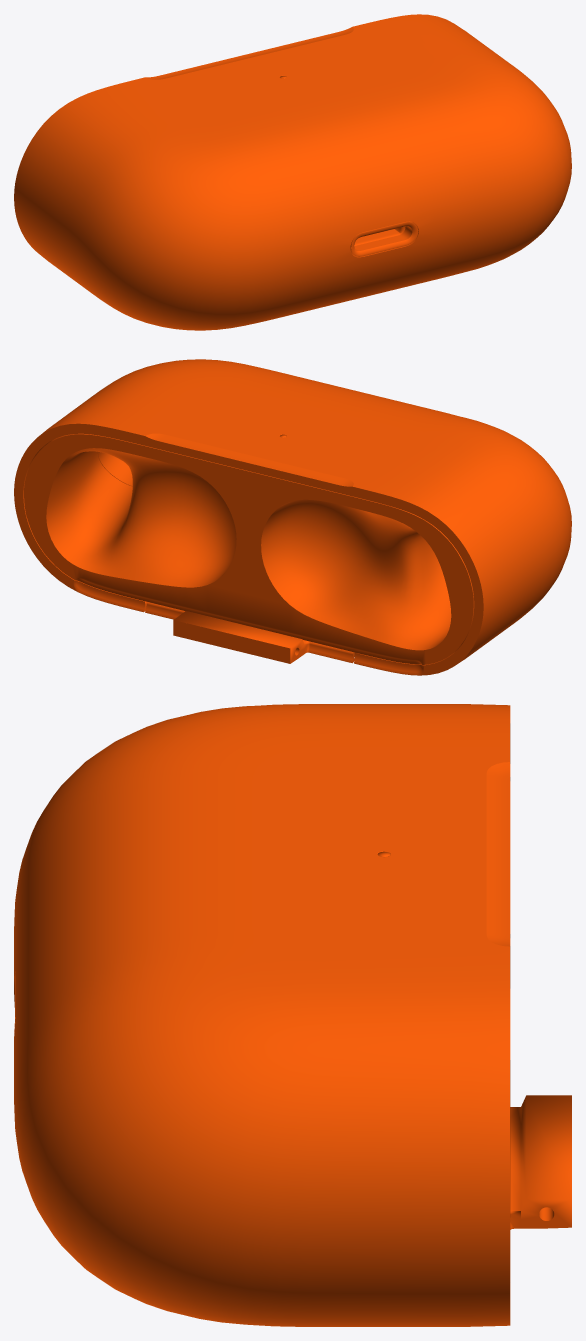
The model's file is bottom_case_resized_proper_1.obj.
3 renders of one model, top to bottom at view 1: azimuth 30°, elevation 25°; view 2: azimuth 150°, elevation 25°; view 3: azimuth 270°, elevation 25°, orthographic. The views are drawn at different scales.
Size of the model in its own units: 0.1515 by 0.0545 by 0.0852.
